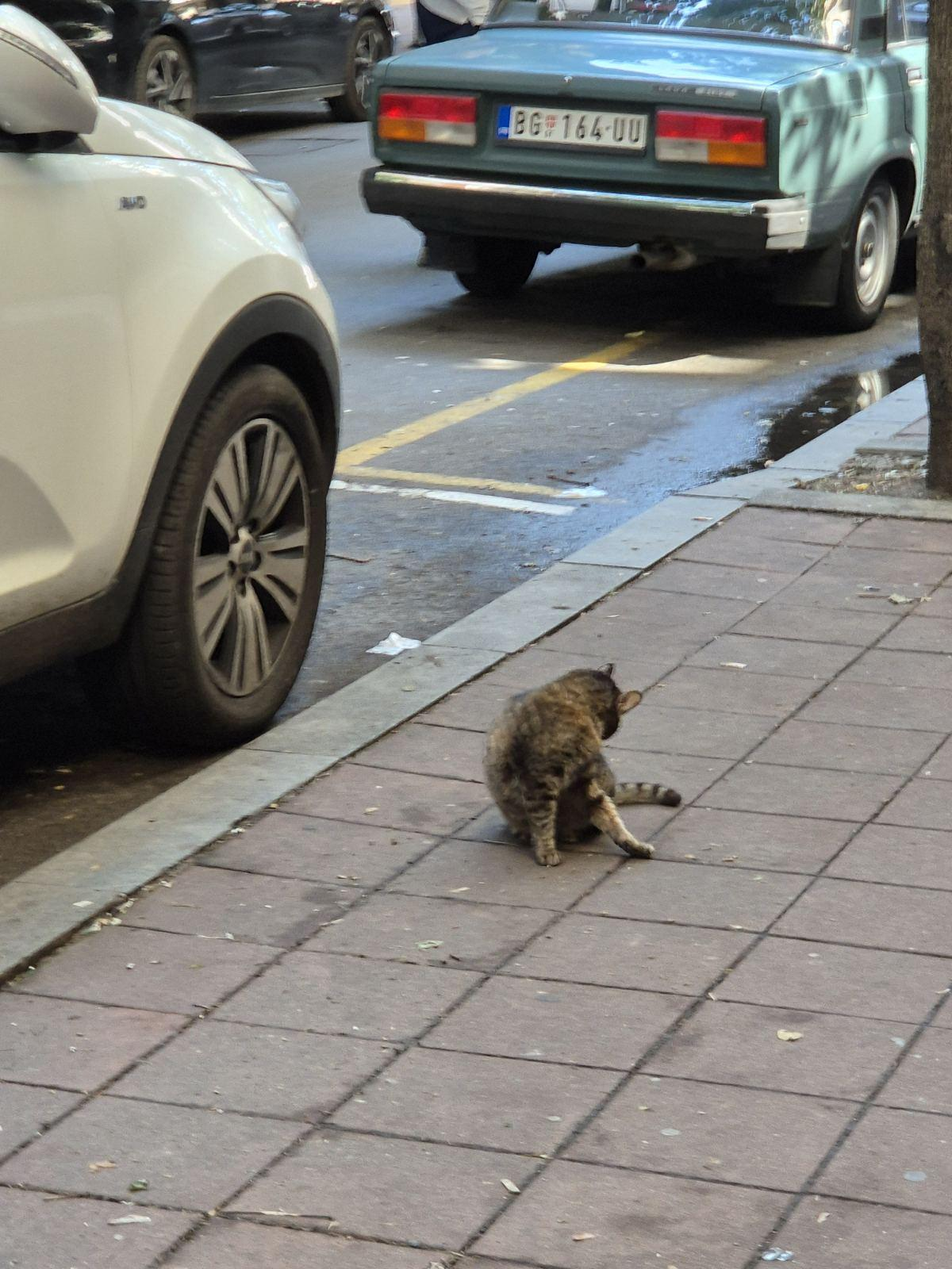macka: (482, 662, 682, 869)
